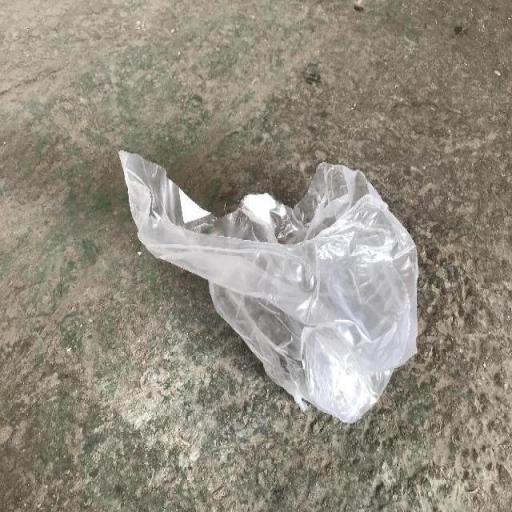plastic-bag: (124, 159, 425, 431)
